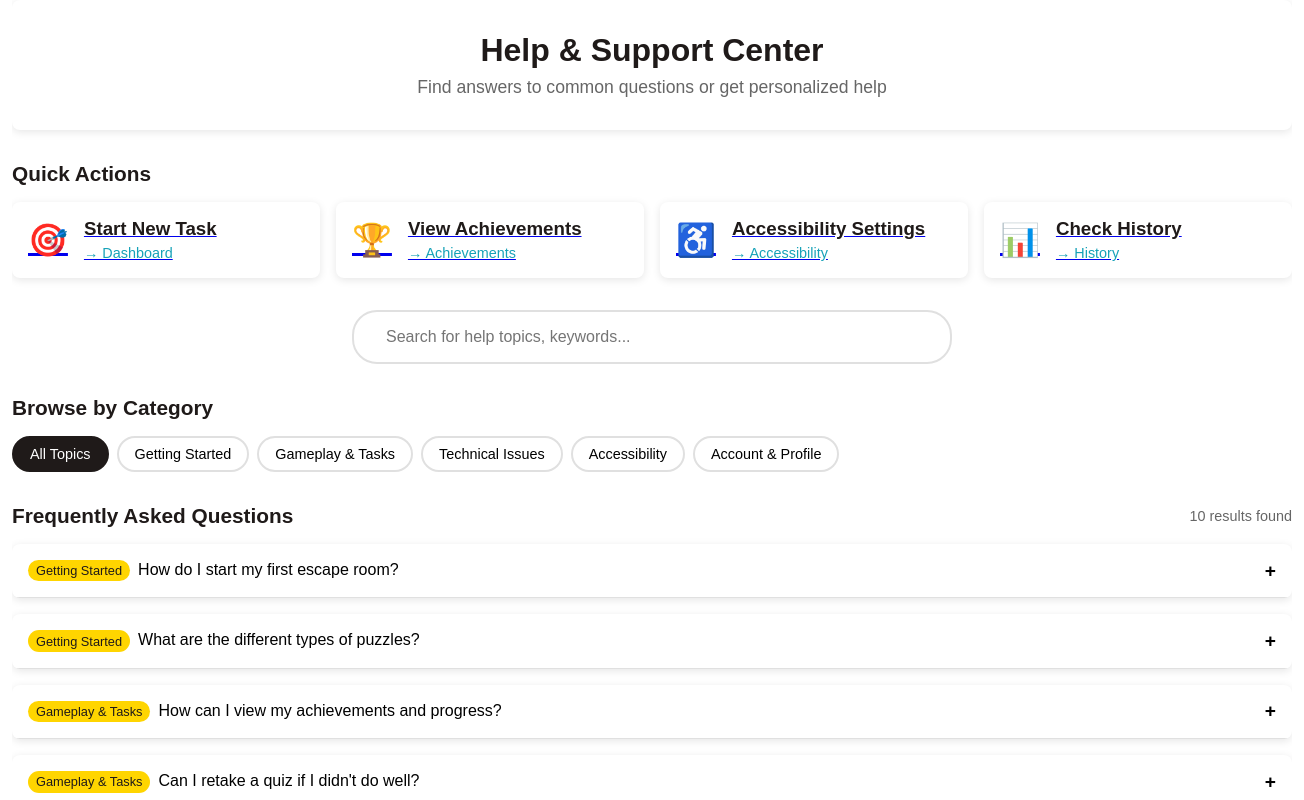
Test case: StudentHelp (Component) › filters FAQ by search keyword (e.g., "achieve")
Step 1. Type "achieve" into the field with placeholder "Search for help topics, keywords..." → (652, 337), box [352, 310, 952, 364]
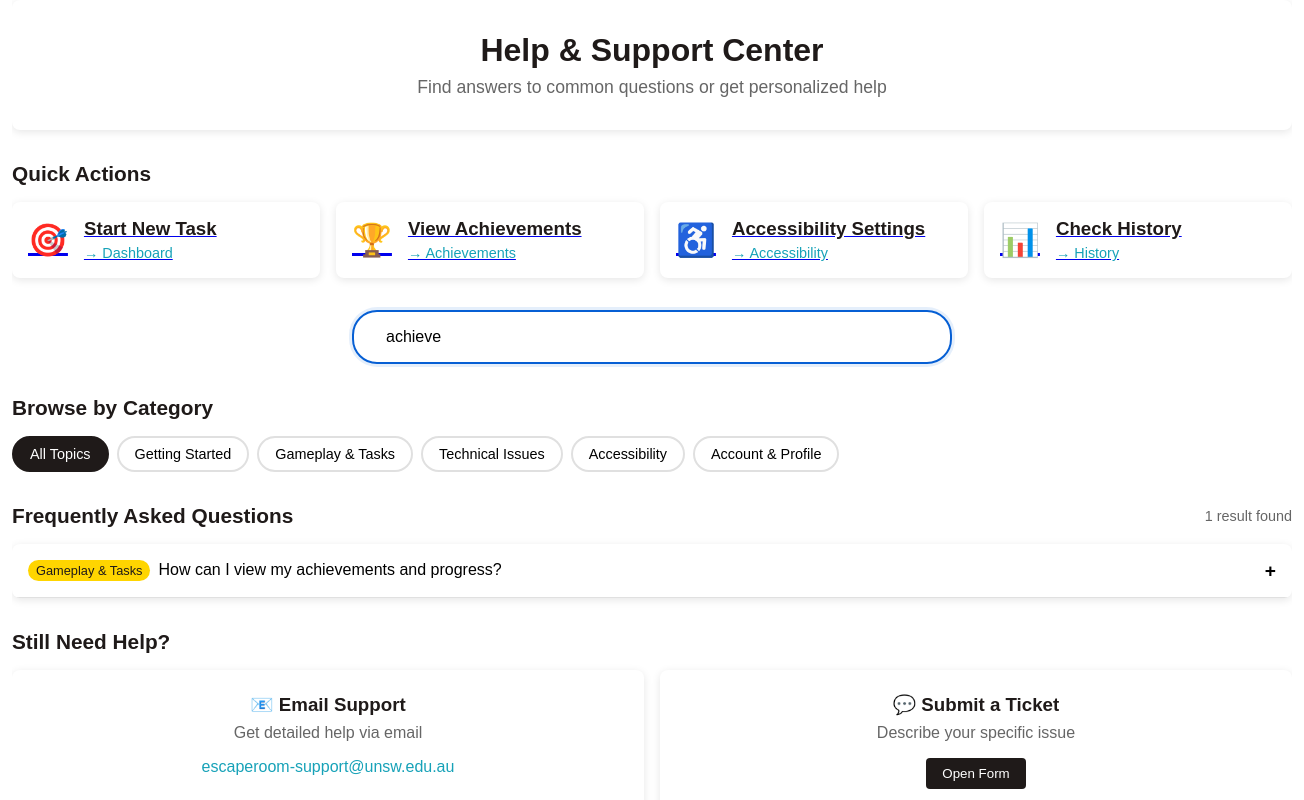
Expected: the text with class "results-count" shows "result", [1205, 508, 1292, 524]
Expected: the number of elements with class "faq-item" is more than 0, [12, 544, 1292, 598]
